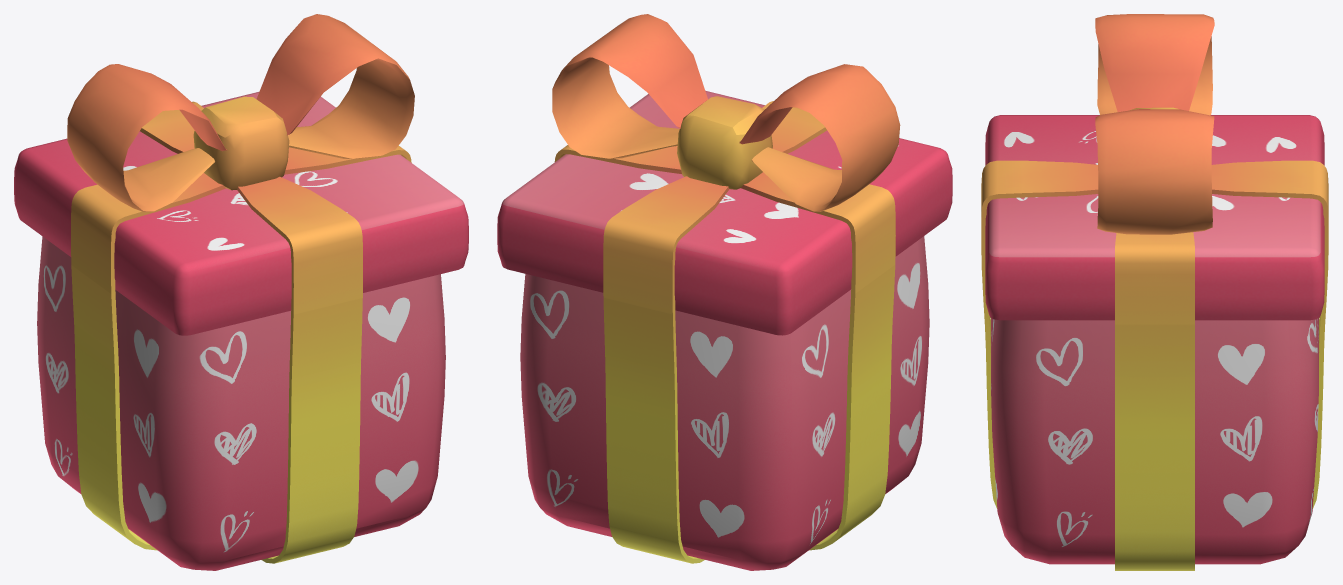
The model's file is hediyeKutusu.fbx.
3 views of the same model, side by side, from view 1: azimuth 30°, elevation 25°; view 2: azimuth 150°, elevation 25°; view 3: azimuth 270°, elevation 25° (orthographic).
Parts seen in each view (by area): view 1: kutu, kapak; view 2: kutu, kapak; view 3: kapak, kutu.
Boxes of the visible parts, left/top/right/bottom form: kutu: left=37, top=236, right=445, bottom=570; kapak: left=14, top=14, right=468, bottom=335; kutu: left=520, top=236, right=929, bottom=570; kapak: left=497, top=14, right=952, bottom=335; kapak: left=981, top=14, right=1328, bottom=324; kutu: left=981, top=268, right=1328, bottom=570.
Size of the model in its own units: 221 by 319 by 221.
